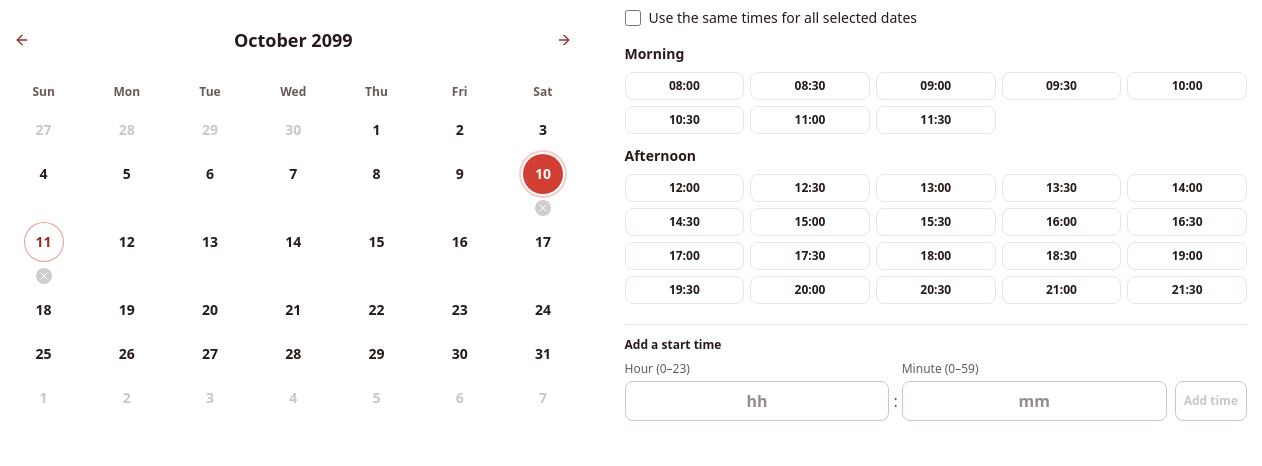
schedule time cards › localizes expanded groups in en
expect the element "Morning" is shown: met, box [624,44,1247,134]
expect the element "Afternoon" is shown: met, box [624,146,1247,304]
In the field labelled "Hour (0–23)": point(757, 401) [624,381,889,421], type "21"
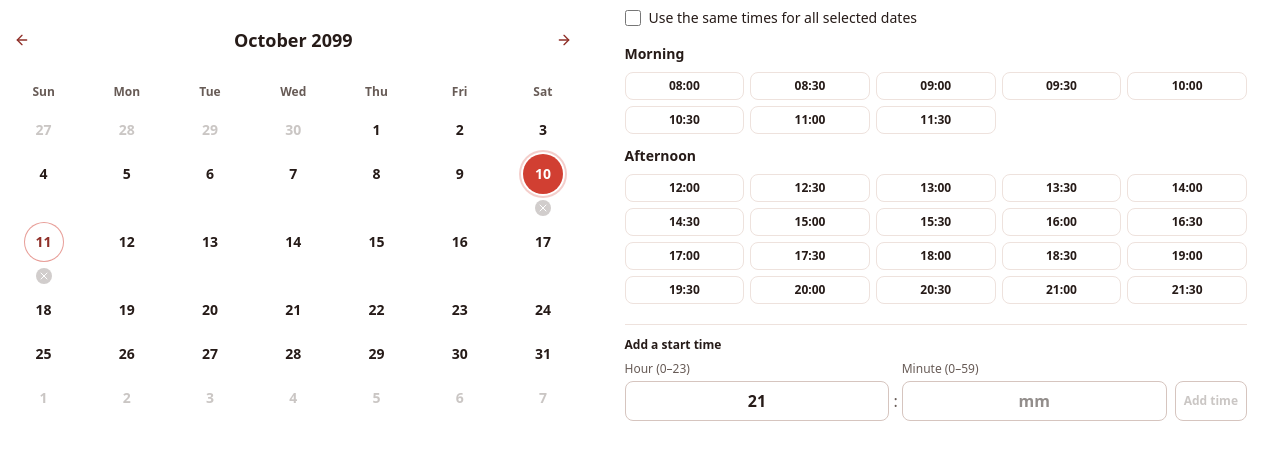
In the field labelled "Minute (0–59)": point(1034, 401) [902,381,1167,421], type "53"
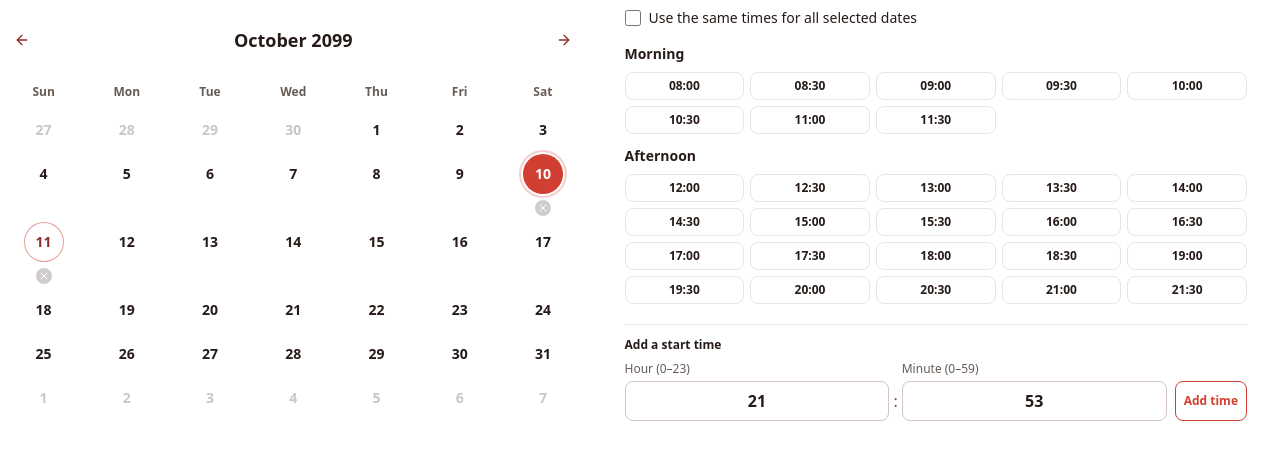
Click the button "Add time": point(1211, 401) [1175,381,1247,421]
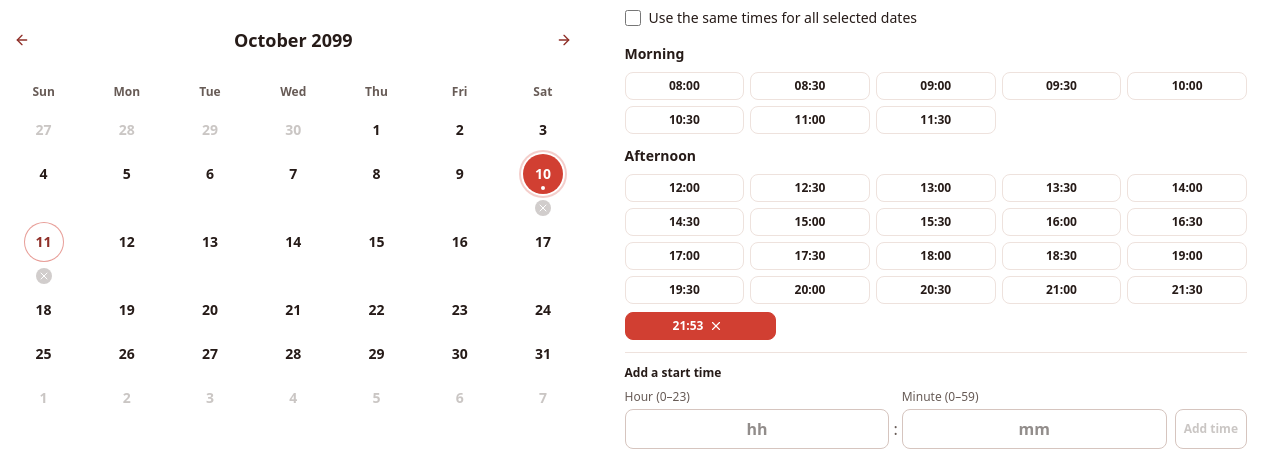
expect the element with test id "schedule-time-2099-10-10-21:53" reads "21:53": met, box [673,317,704,334]
